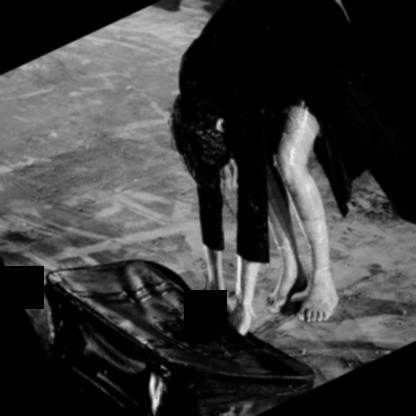suitcase: (41, 256, 317, 416)
